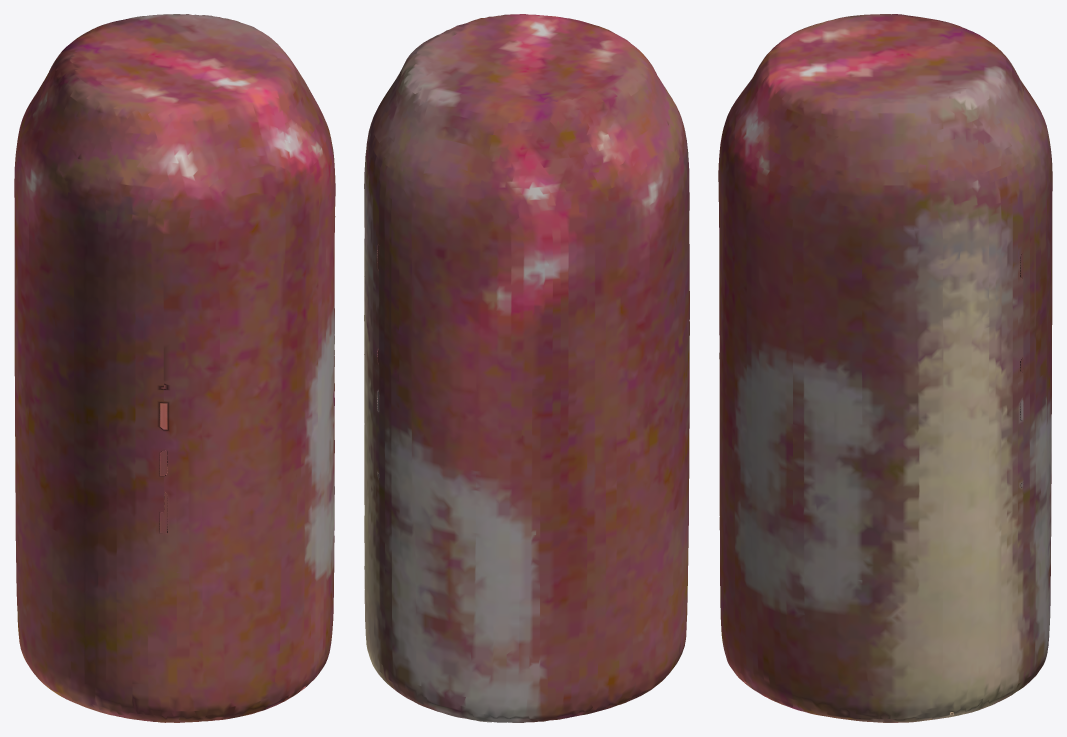
File: mesh_net00_pcd.glb
3 views of the same model, side by side, from view 1: azimuth 30°, elevation 25°; view 2: azimuth 150°, elevation 25°; view 3: azimuth 270°, elevation 25° (orthographic).
Bounding box in the file's own units: 0.3936 × 0.8338 × 0.4145.
